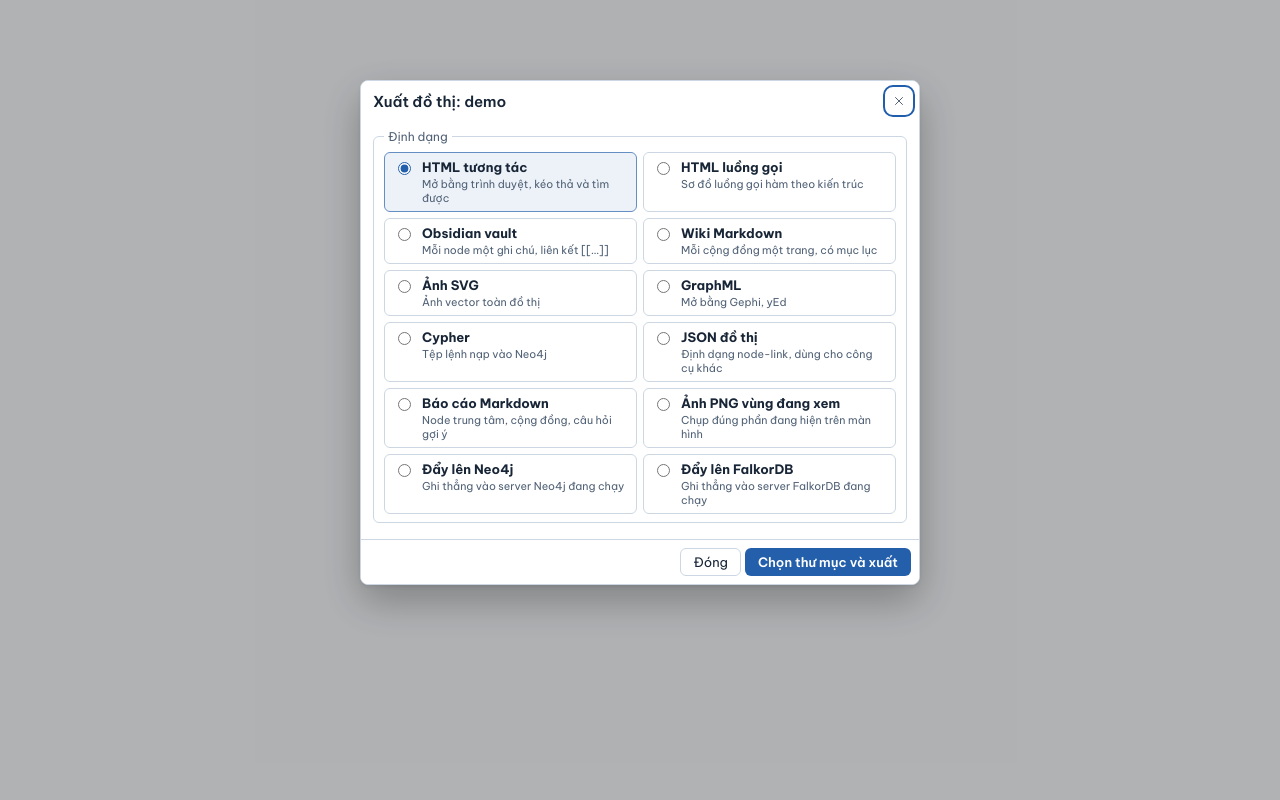
it: ExportDialog › báo khi bị cắt
The image size is (1280, 800).
Click the radio button labelled "Ảnh SVG" at (404, 286), box [398,280,411,293]
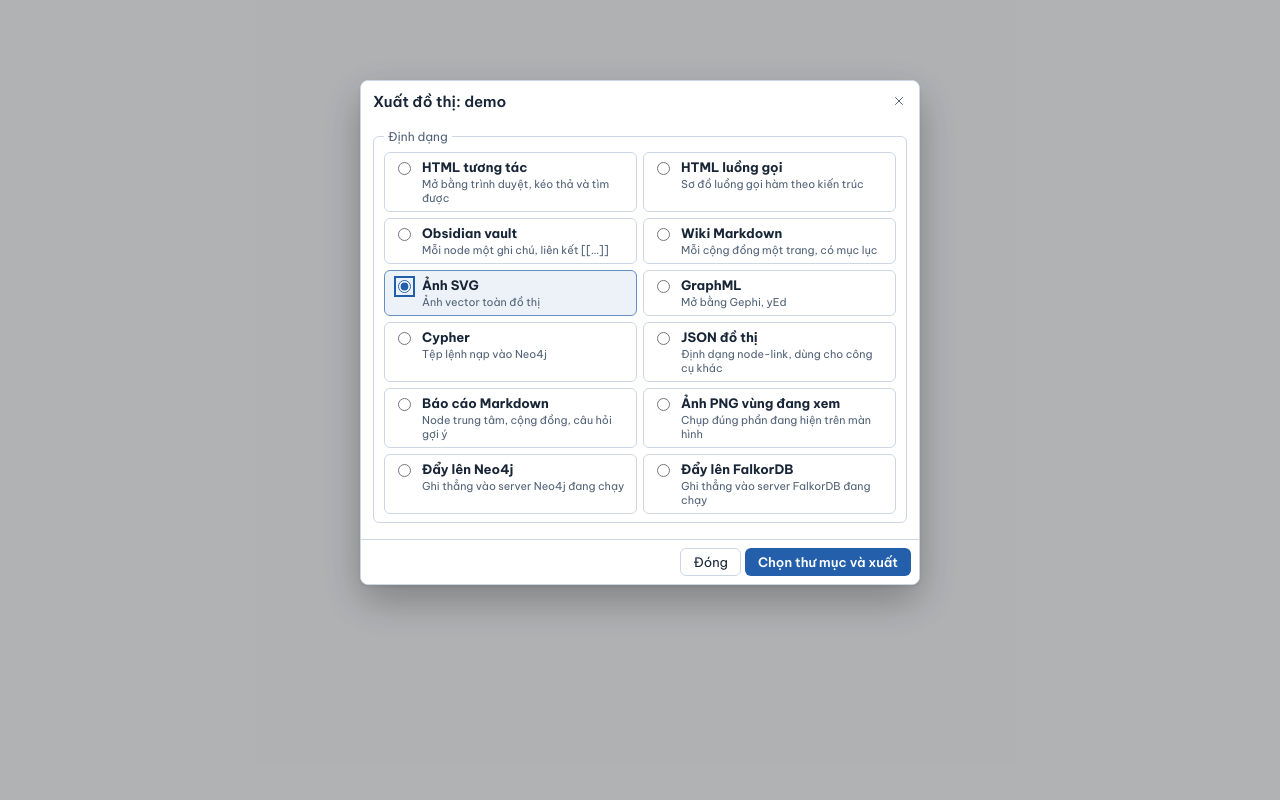
Click the button "Chọn thư mục và xuất" at (828, 562), box [745,548,911,576]
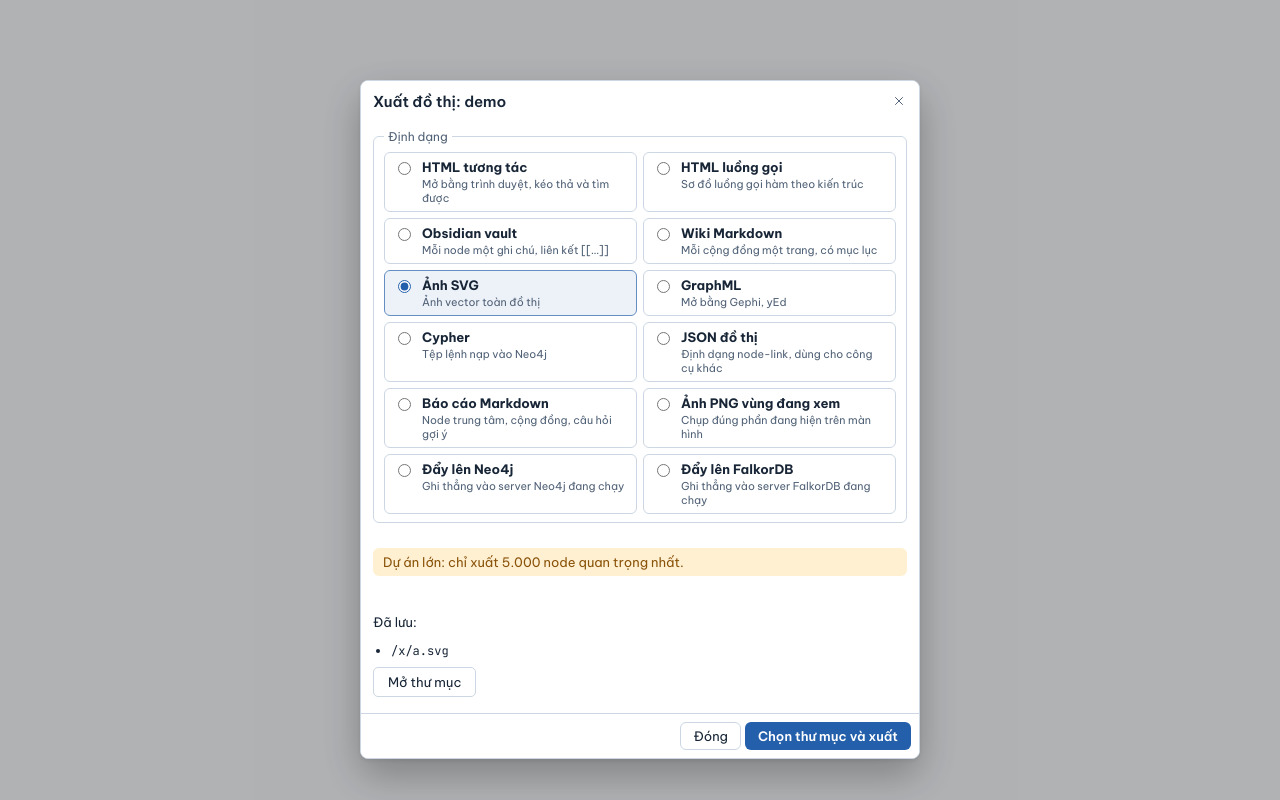
expect the text "Dự án lớn: chỉ xuất 5.000 node quan trọng nhất." is shown: met, box [373,548,907,576]
